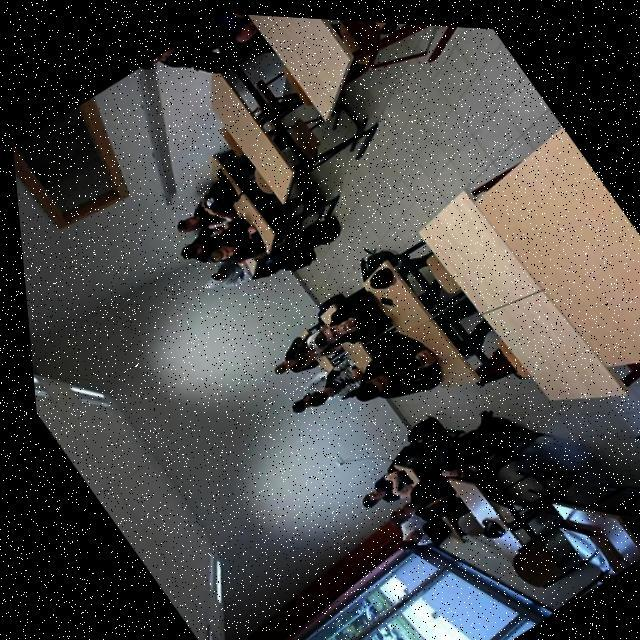phone_use: (352, 331, 439, 399), (292, 341, 370, 411), (177, 215, 232, 260), (204, 257, 255, 287)
